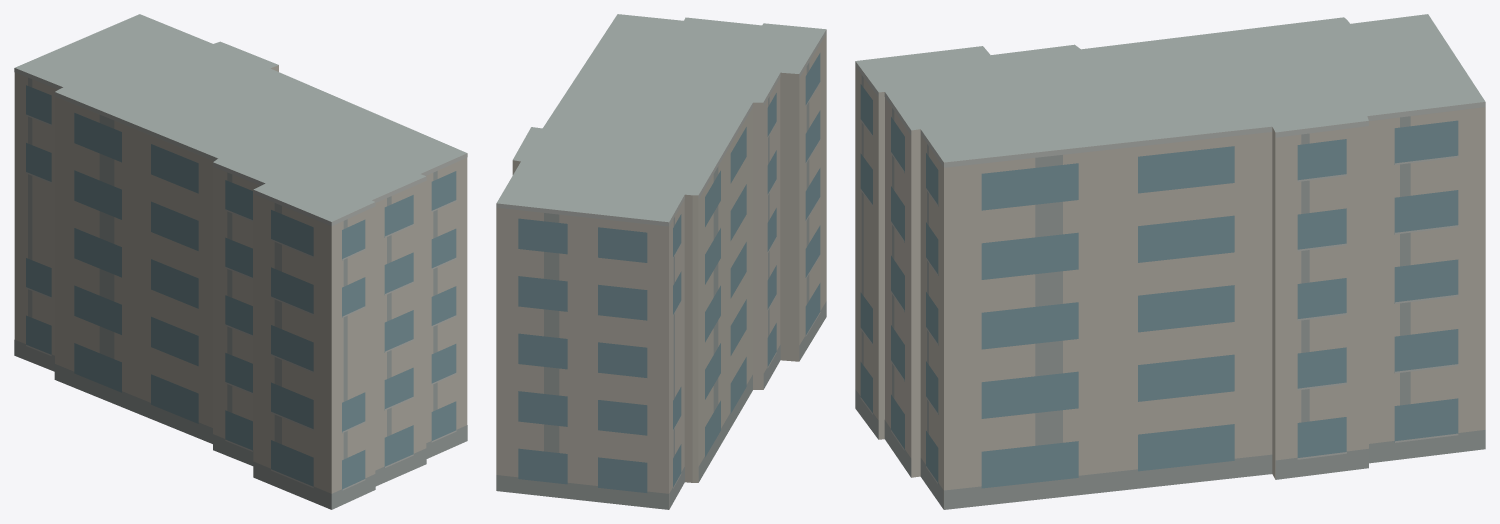
The model's file is survey-upis-32649253.glb.
3 renders of one model, left to right at view 1: azimuth 30°, elevation 25°; view 2: azimuth 150°, elevation 25°; view 3: azimuth 270°, elevation 25°, orthographic. The views are drawn at different scales.
Parts seen in each view (by area): view 1: survey-upis-32649253.tmp; view 2: survey-upis-32649253.tmp; view 3: survey-upis-32649253.tmp.
Boxes of the visible parts, left/top/right/bottom form: survey-upis-32649253.tmp: left=14, top=14, right=467, bottom=509; survey-upis-32649253.tmp: left=496, top=14, right=826, bottom=509; survey-upis-32649253.tmp: left=855, top=14, right=1485, bottom=509.
Size of the model in its own units: 14.77 by 16.1 by 26.48.
